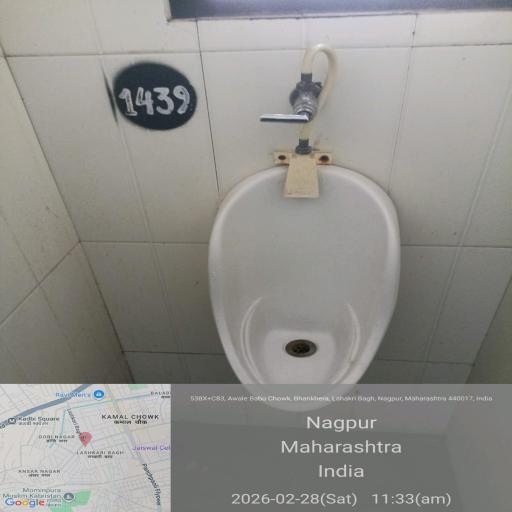clean_floor: (20, 0, 218, 504), (224, 6, 512, 140)
clean_urinal: (222, 154, 399, 415)
